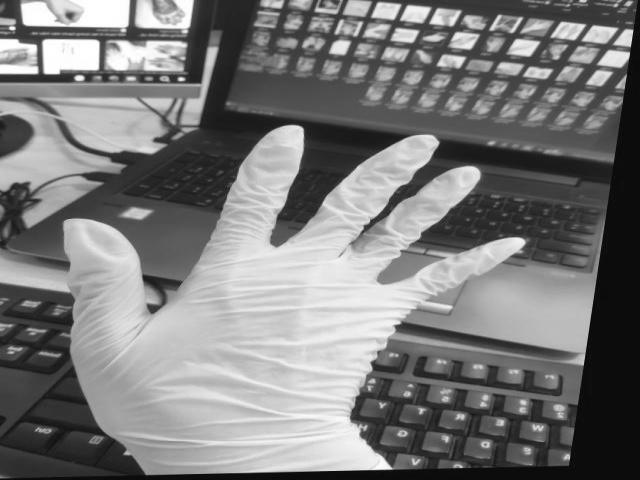gloved: (64, 125, 524, 477)
